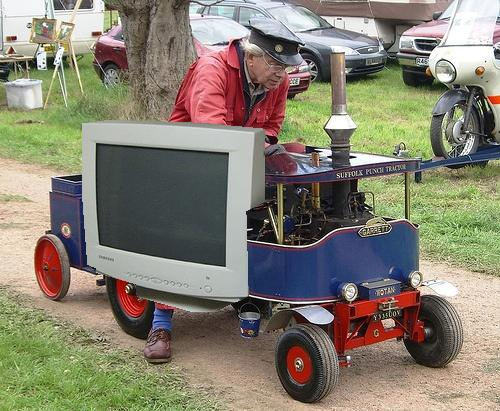tampered: (83, 121, 265, 312)
